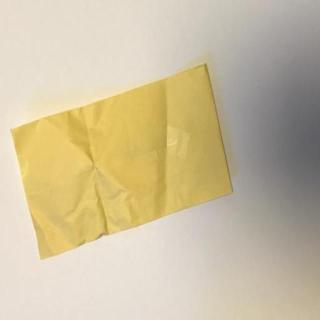Anorganik: (13, 58, 238, 264)
